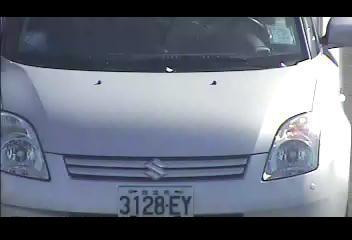plate: (116, 183, 195, 219)
